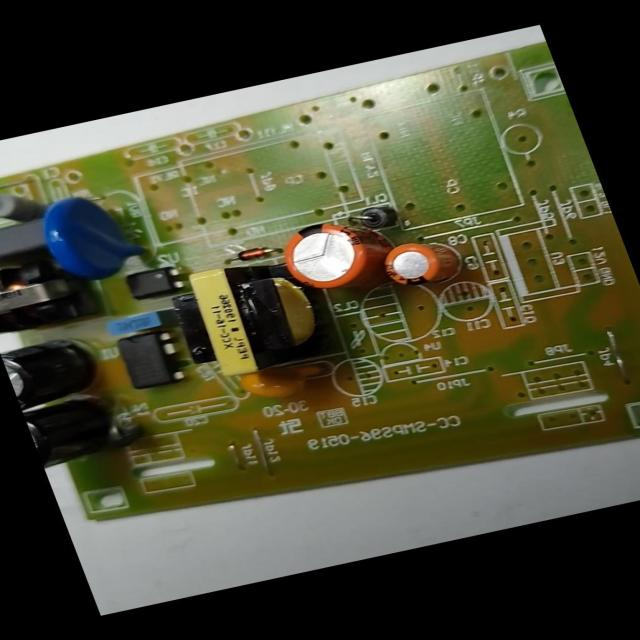Cap1: (272, 208, 402, 297)
Cap2: (374, 235, 448, 290)
Cap3: (0, 330, 110, 412)
Cap4: (22, 394, 125, 472)
MOSFET: (110, 328, 188, 392)
Mov: (29, 184, 160, 289)
Resistor: (0, 185, 46, 229)
Transformer: (162, 250, 340, 384), (0, 252, 98, 338)
